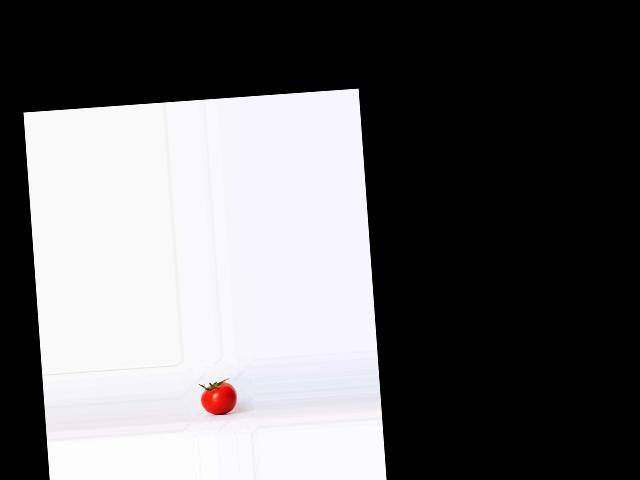tomato: (200, 381, 238, 415)
